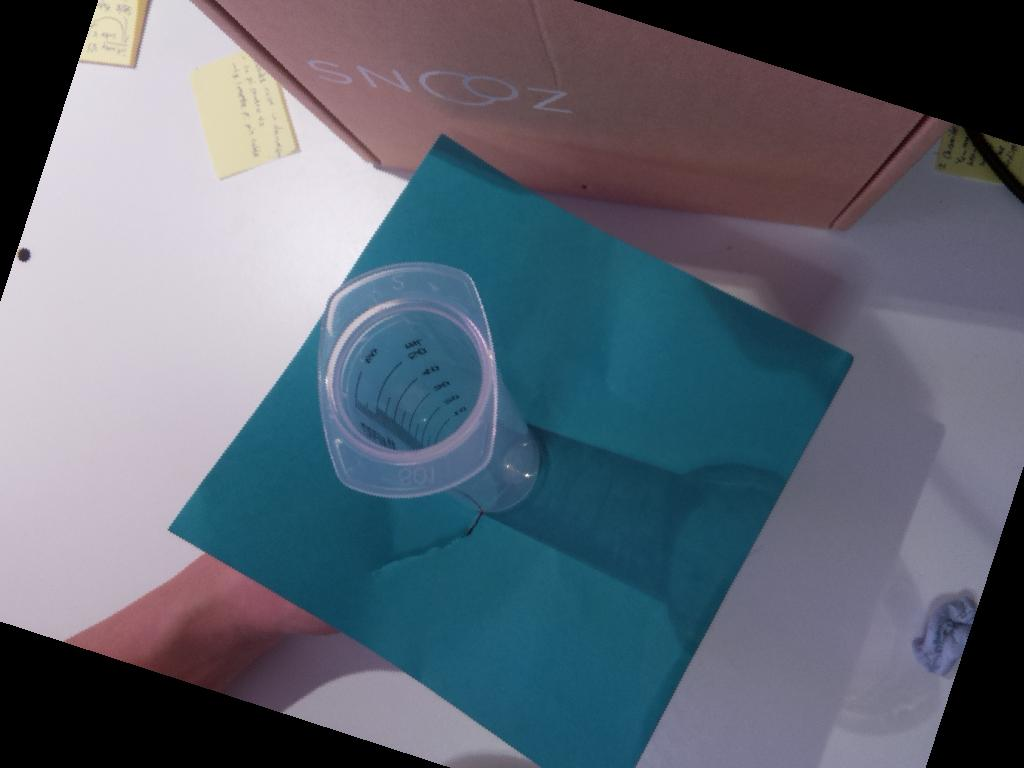clean: (319, 260, 498, 499)
